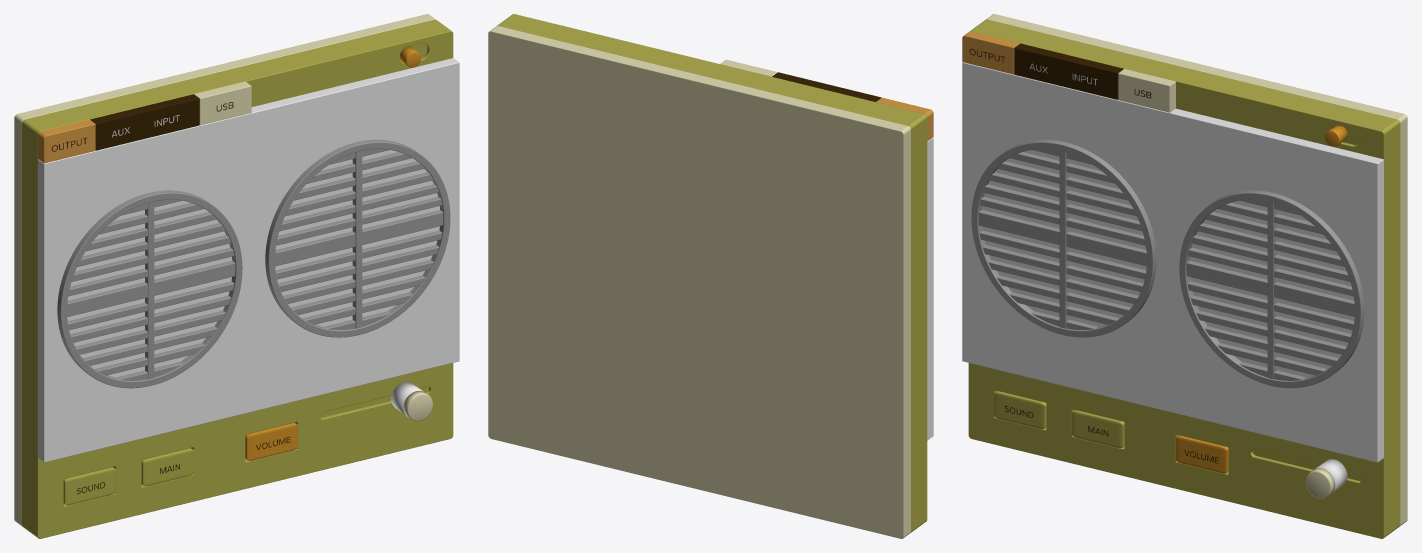
File: Mixer_speaker2_color.glb
The picture shows the model from 3 angles, left to right: view 1: azimuth 30°, elevation 25°; view 2: azimuth 150°, elevation 25°; view 3: azimuth 330°, elevation 25°; orthographic projection.
Parts seen in each view (by area): view 1: baseSpeaker2speakerpanel, baseSpeaker2panel, baseSpeaker2round2, baseSpeaker2round, baseSpeaker2, baseSpeaker2auxinput, baseSpeaker2output, baseSpeaker2usb, btnSpeaker2sound, btnSpeaker2main, btnSpeaker2volume, faderSpeaker2top; view 2: baseSpeaker2, baseSpeaker2panel, baseSpeaker2speakerpanel, baseSpeaker2auxinput, baseSpeaker2output; view 3: baseSpeaker2speakerpanel, baseSpeaker2panel, baseSpeaker2round, baseSpeaker2round2, baseSpeaker2, baseSpeaker2auxinput, baseSpeaker2usb, baseSpeaker2output, btnSpeaker2volume, btnSpeaker2main, btnSpeaker2sound, faderSpeaker2top.
Part boxes in pixels (x1,y1,x2,y2): baseSpeaker2speakerpanel: (38, 58, 459, 462); baseSpeaker2panel: (21, 19, 453, 538); baseSpeaker2round2: (265, 139, 450, 337); baseSpeaker2round: (57, 190, 242, 388); baseSpeaker2: (14, 14, 435, 525); baseSpeaker2auxinput: (90, 94, 199, 150); baseSpeaker2output: (38, 119, 95, 163); baseSpeaker2usb: (194, 81, 251, 125); btnSpeaker2sound: (63, 467, 115, 505); btnSpeaker2main: (141, 448, 193, 486); btnSpeaker2volume: (245, 422, 297, 460); faderSpeaker2top: (403, 391, 432, 421); baseSpeaker2: (488, 26, 910, 538); baseSpeaker2panel: (497, 14, 927, 532); baseSpeaker2speakerpanel: (927, 137, 933, 440); baseSpeaker2auxinput: (772, 72, 881, 101); baseSpeaker2output: (876, 97, 933, 141); baseSpeaker2speakerpanel: (962, 62, 1383, 462); baseSpeaker2panel: (968, 19, 1400, 538); baseSpeaker2round: (971, 139, 1156, 337); baseSpeaker2round2: (1179, 190, 1364, 388); baseSpeaker2: (986, 14, 1407, 525); baseSpeaker2auxinput: (1014, 43, 1123, 99); baseSpeaker2usb: (1118, 69, 1175, 112); baseSpeaker2output: (962, 31, 1019, 74); btnSpeaker2volume: (1176, 435, 1228, 473); btnSpeaker2main: (1072, 410, 1124, 448); btnSpeaker2sound: (994, 391, 1046, 429); faderSpeaker2top: (1305, 468, 1335, 498).
Size of the model in its own units: 1.28 by 1.2 by 0.2147.
